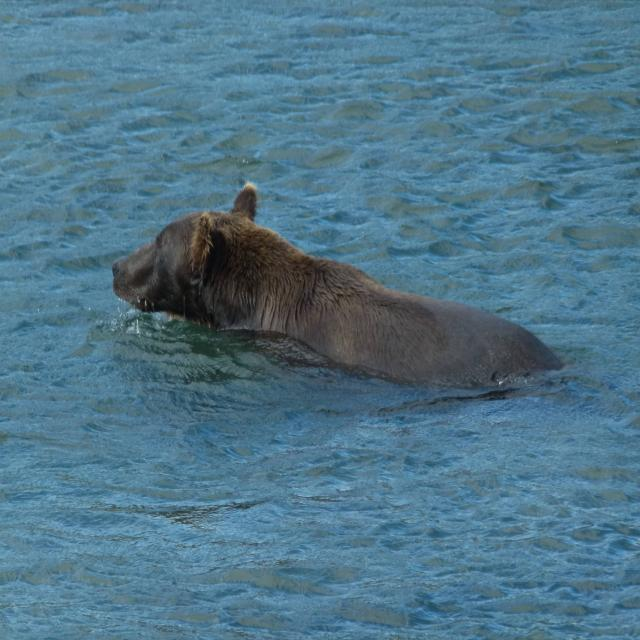bear face: (113, 190, 561, 388)
